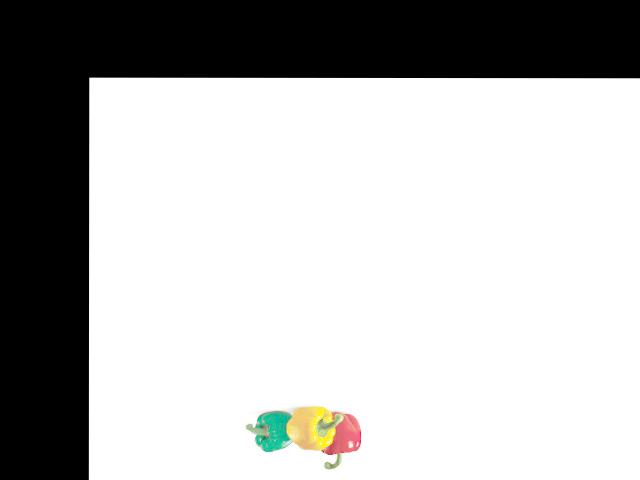bell_pepper: (247, 406, 297, 455)
